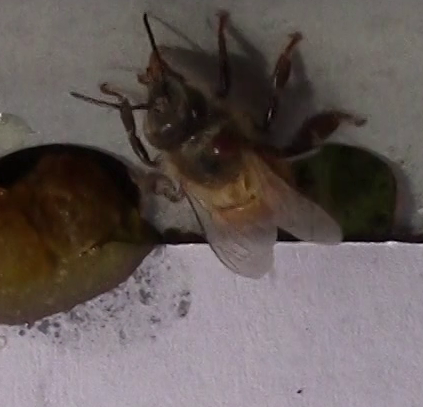Varroa destructor: (208, 130, 240, 160)
